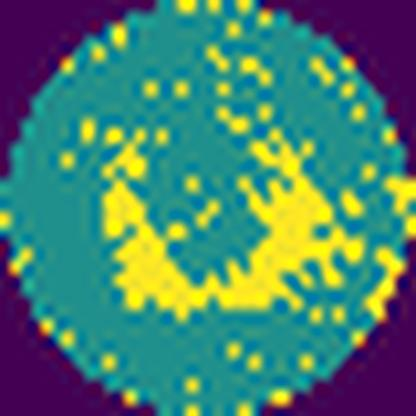Donut: (93, 108, 345, 323)
